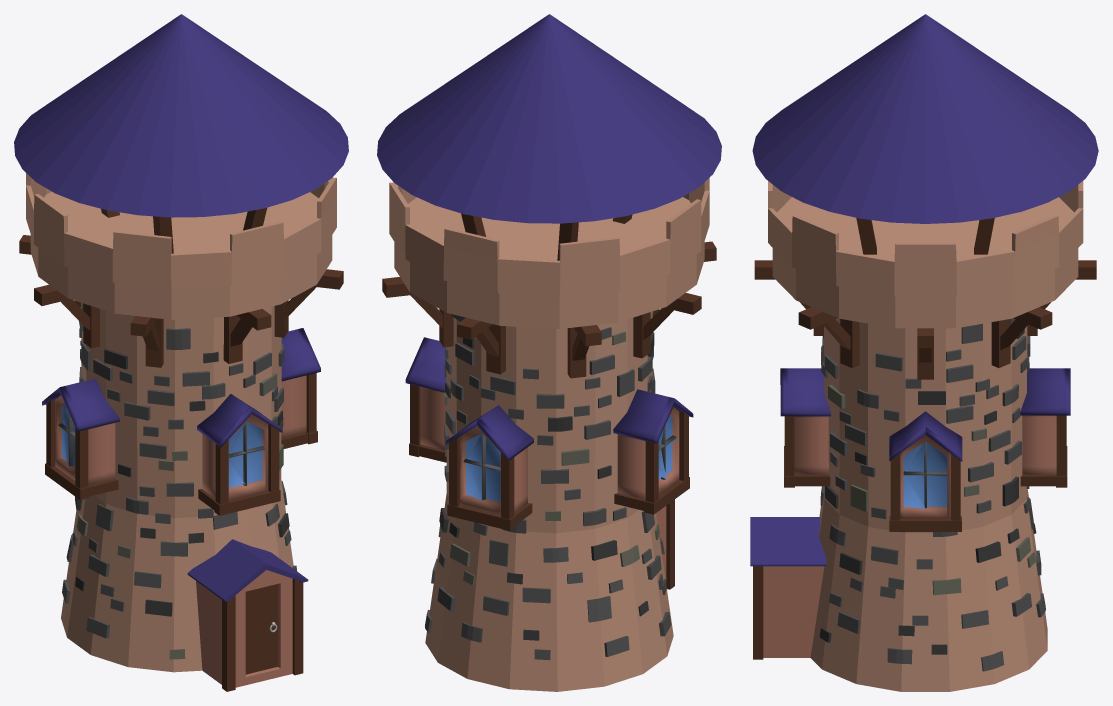
The model's file is Башня1(готовая).fbx.
The picture shows the model from 3 angles, left to right: view 1: azimuth 30°, elevation 25°; view 2: azimuth 150°, elevation 25°; view 3: azimuth 270°, elevation 25°; orthographic projection. The views are drawn at different scales.
Visible parts, largest first — view 1: Основа; view 2: Основа; view 3: Основа.
Boxes of the visible parts, x1,y1,x2,y2 form: Основа: (14, 14, 348, 691); Основа: (377, 14, 721, 691); Основа: (750, 14, 1098, 691).
Bounding box in the file's own units: 333 × 665 × 335.
